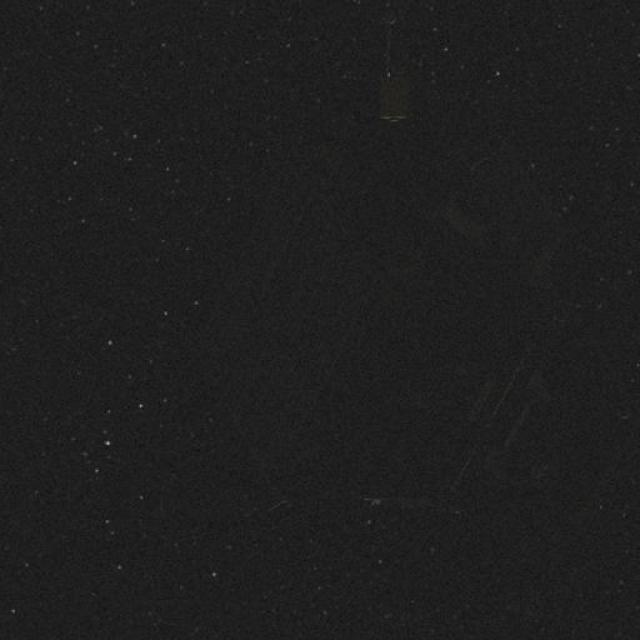proba_2: (281, 181, 589, 538)
